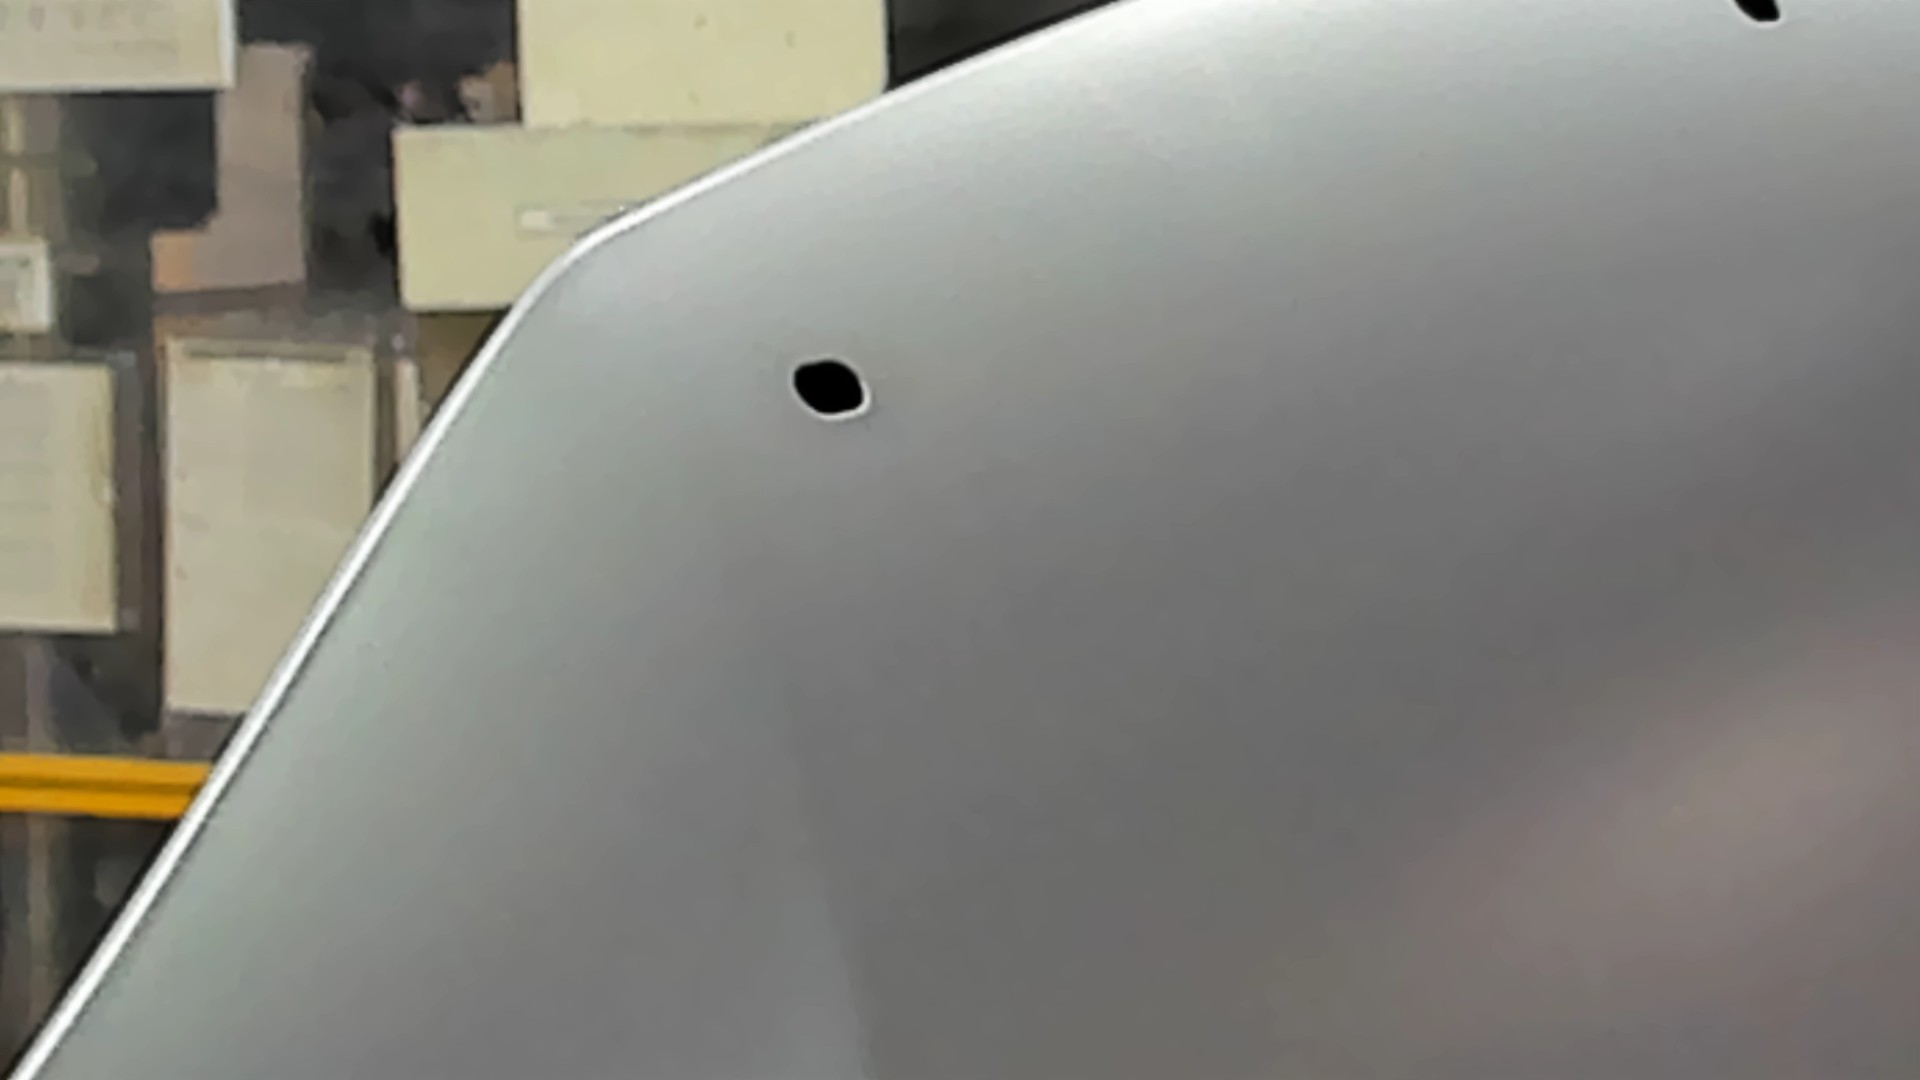amorfo: (787, 351, 876, 422), (1730, 1, 1789, 29)
